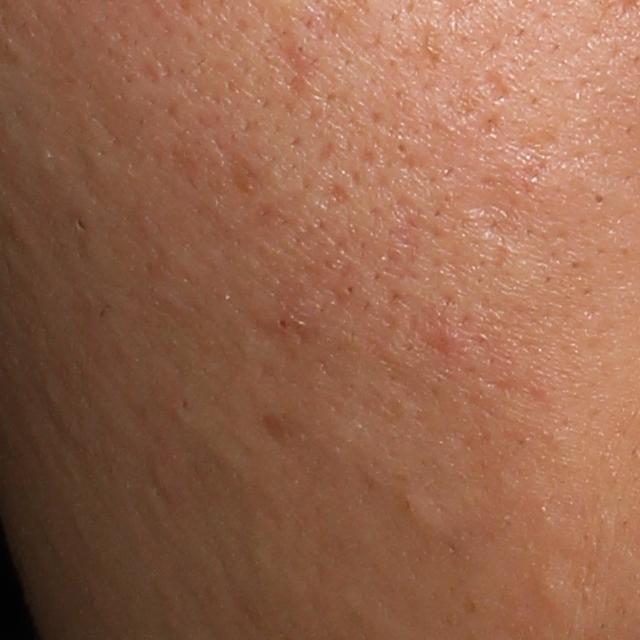atrophic_scar: (483, 63, 511, 107)
comedo: (389, 483, 450, 537), (524, 563, 574, 608), (391, 139, 413, 159), (591, 190, 606, 207)
